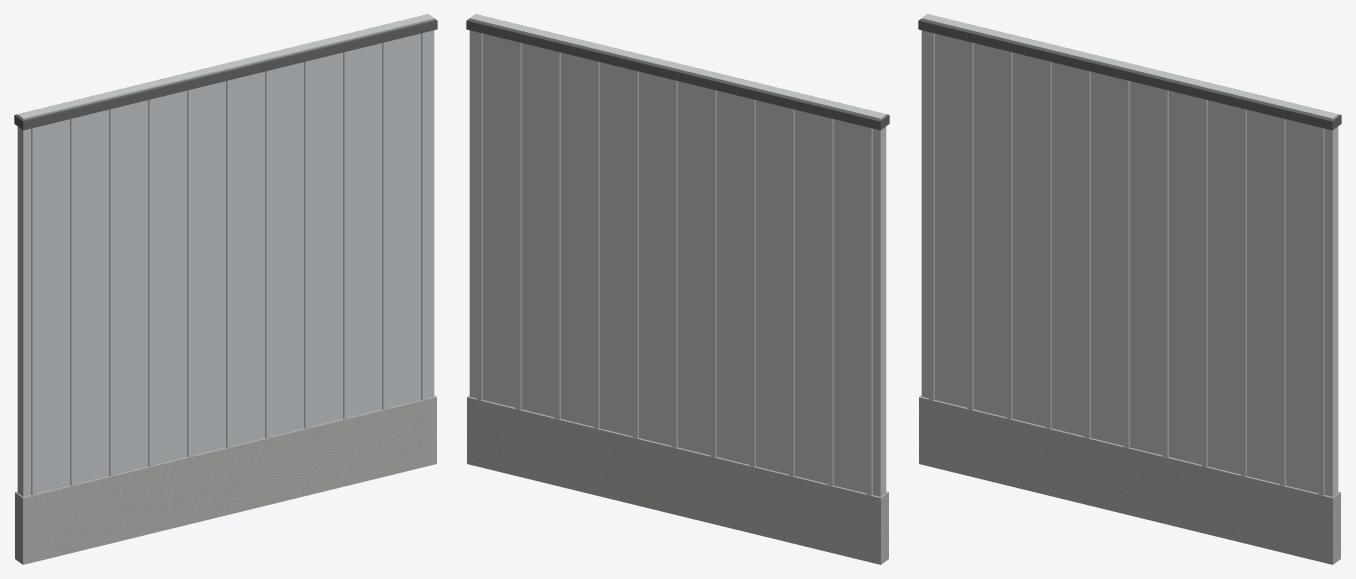
File: hall-wall-cladding-bay-6-m.glb
3 renders of one model, left to right at view 1: azimuth 30°, elevation 25°; view 2: azimuth 150°, elevation 25°; view 3: azimuth 330°, elevation 25°, orthographic.
Visible parts, largest first — view 1: machine-shop-and-factory-hall-hall-wall-bay; view 2: machine-shop-and-factory-hall-hall-wall-bay; view 3: machine-shop-and-factory-hall-hall-wall-bay.
Boxes of the visible parts, bbox=[...] form: machine-shop-and-factory-hall-hall-wall-bay: bbox=[14, 14, 437, 564]; machine-shop-and-factory-hall-hall-wall-bay: bbox=[466, 14, 889, 564]; machine-shop-and-factory-hall-hall-wall-bay: bbox=[918, 14, 1341, 564].
Size of the model in its own units: 5.84 by 6 by 0.2203.
Materials: 3 (1 with a texture image).
